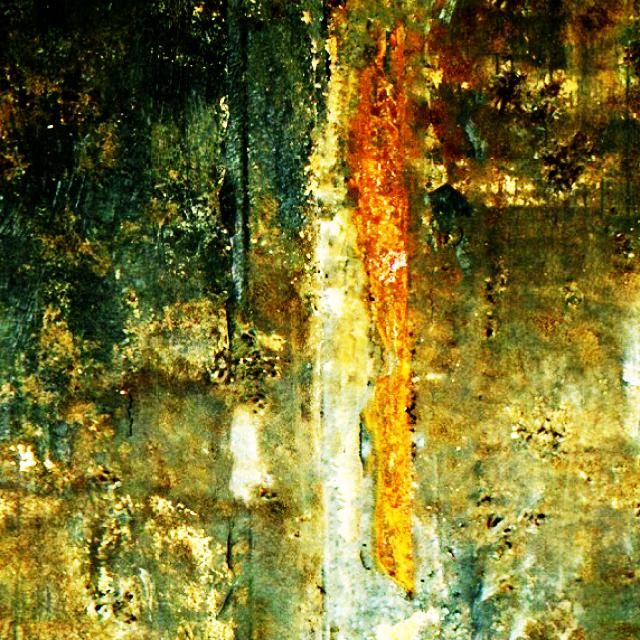Corrosion: (349, 21, 414, 593)
